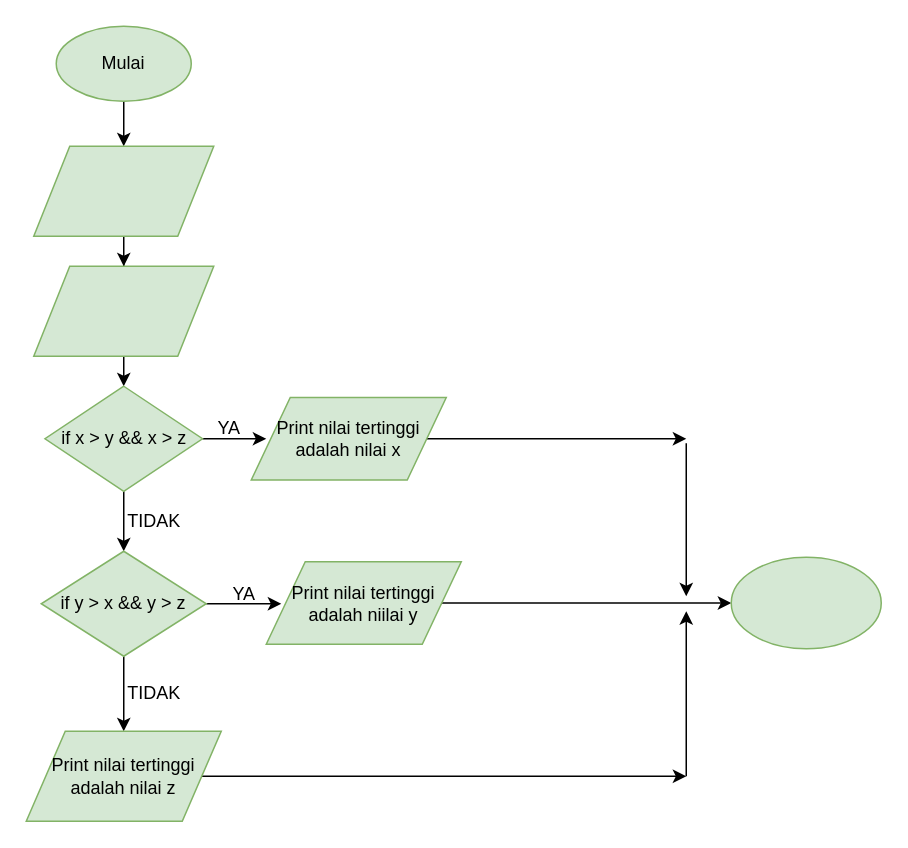
Image size: 908x848. Some labels were removed from this diagram. Here are the shapes that lost their labels. From the top down, the centre of each, then its label:
At point 123,190: "int x, y, z".
At point 123,310: "input nilai x, y, z".
At point 805,602: "Selesai".
